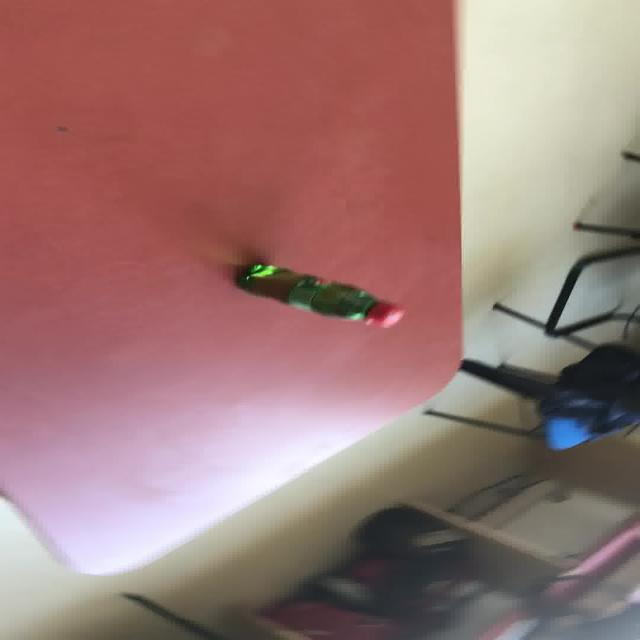guarana: (237, 262, 404, 328)
